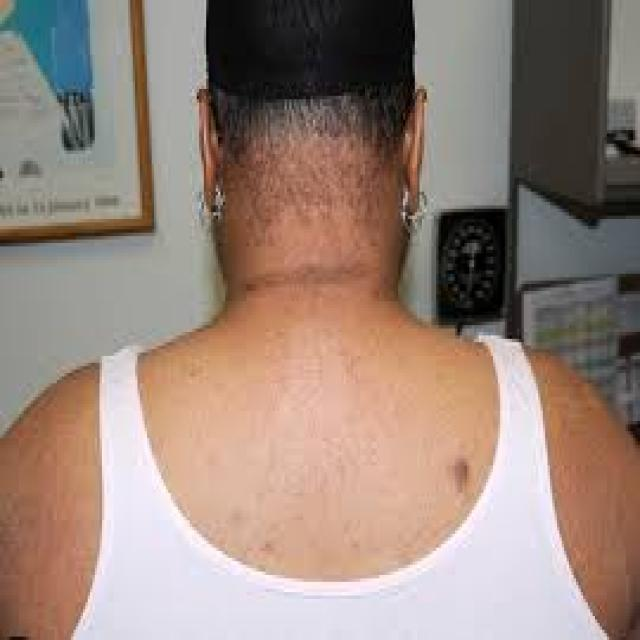Acanthosis Nigricans: (203, 214, 405, 354)
